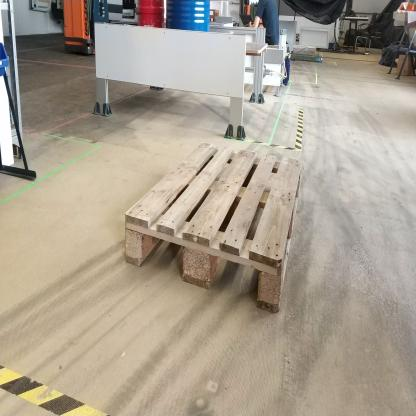BoxFace: (120, 132, 309, 331)
